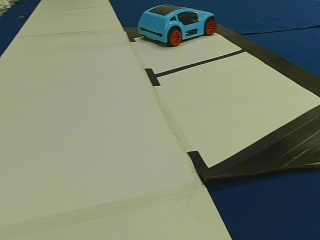car: (137, 6, 217, 46)
